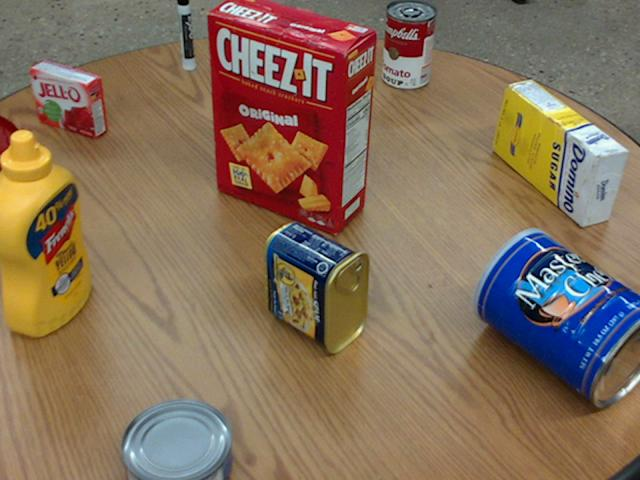cracker_box: (207, 0, 376, 230)
gelatin_box: (34, 60, 110, 138)
large_marker: (178, 0, 195, 69)
master_chef_can: (472, 227, 639, 406)
mug: (0, 114, 35, 217)
mustard_bottle: (0, 129, 93, 336)
potted_meat_can: (262, 221, 370, 354)
sugar_box: (493, 80, 630, 226)
tomato_soup_can: (383, 0, 437, 89)
tuna_fish_can: (120, 399, 231, 479)
